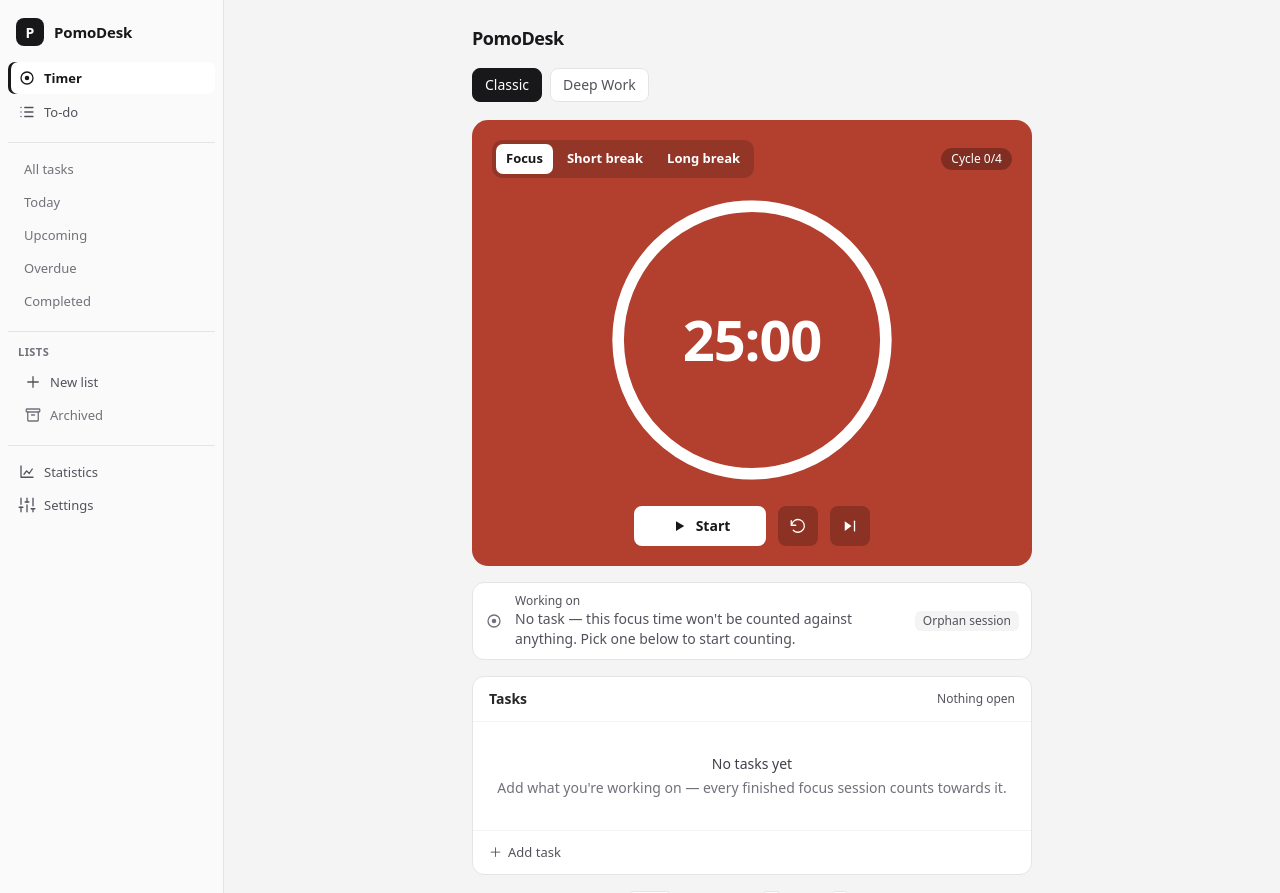
Test: App › asks before discarding a focus session when switching preset
The image size is (1280, 893).
Click the button "Start" at coordinates (700, 526), box top-left (634, 506), bottom-right (766, 546)
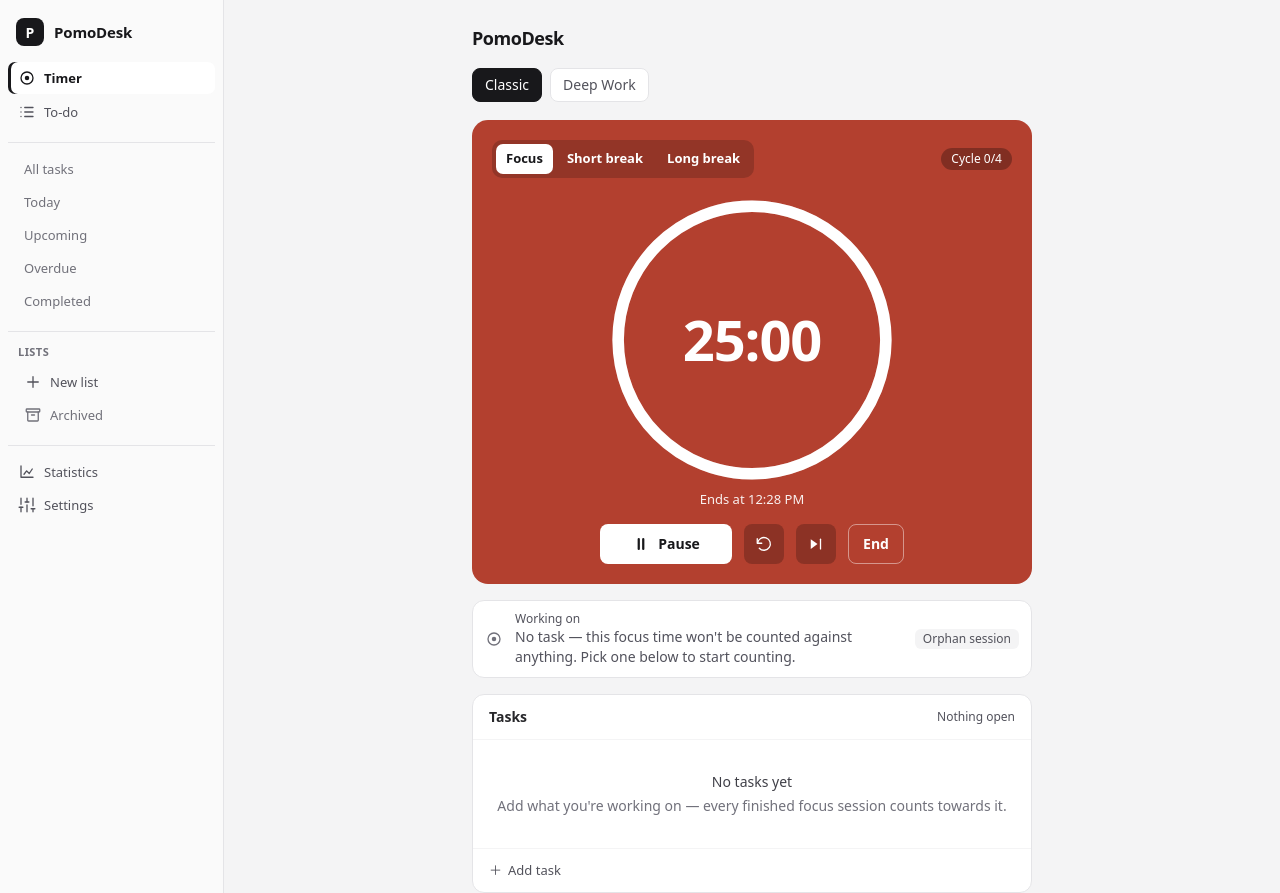
Click the tab "Deep Work" at coordinates (599, 85), box top-left (550, 68), bottom-right (649, 102)
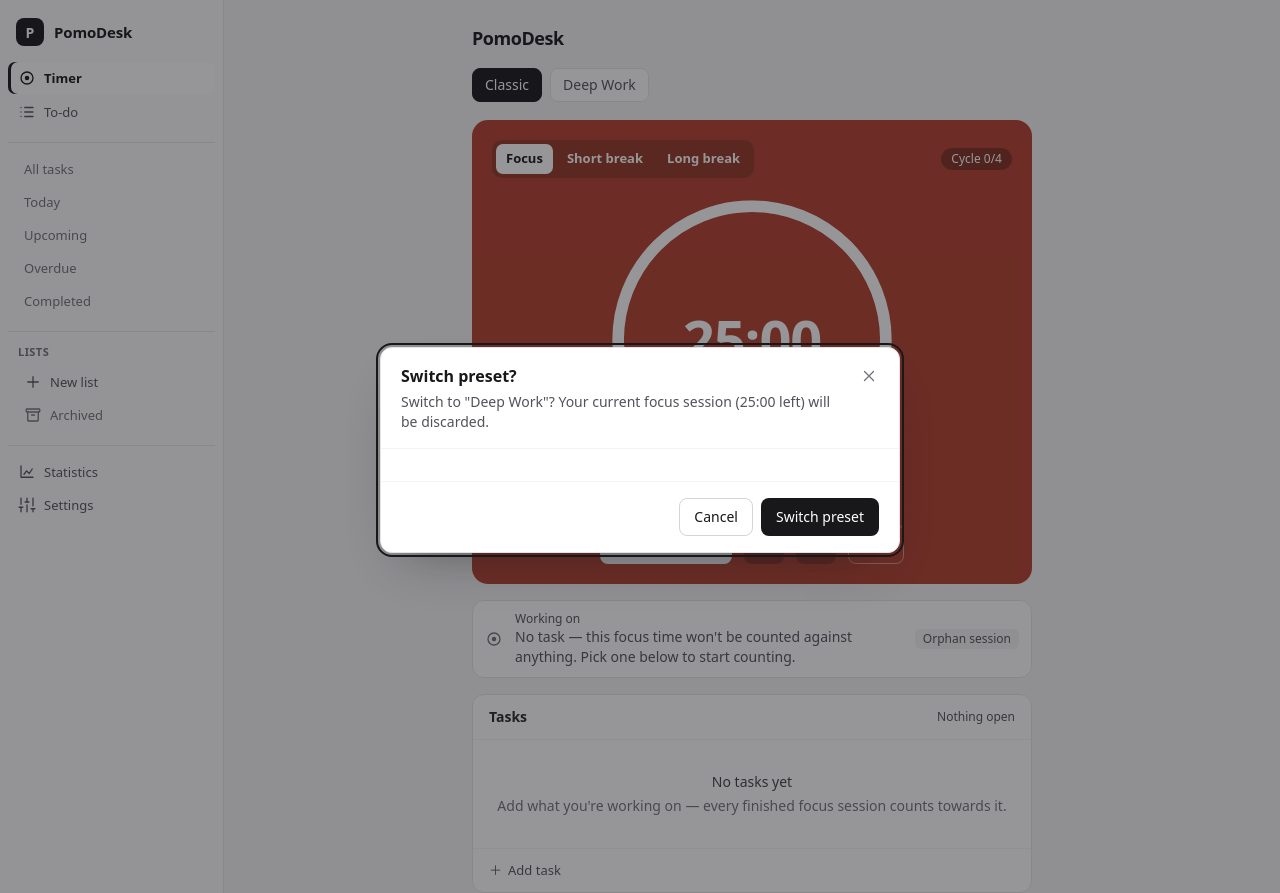
expect the heading "Switch preset?" is shown: met, box top-left (401, 365), bottom-right (517, 387)
expect the text "will be discarded" is shown: met, box top-left (401, 392), bottom-right (830, 431)
